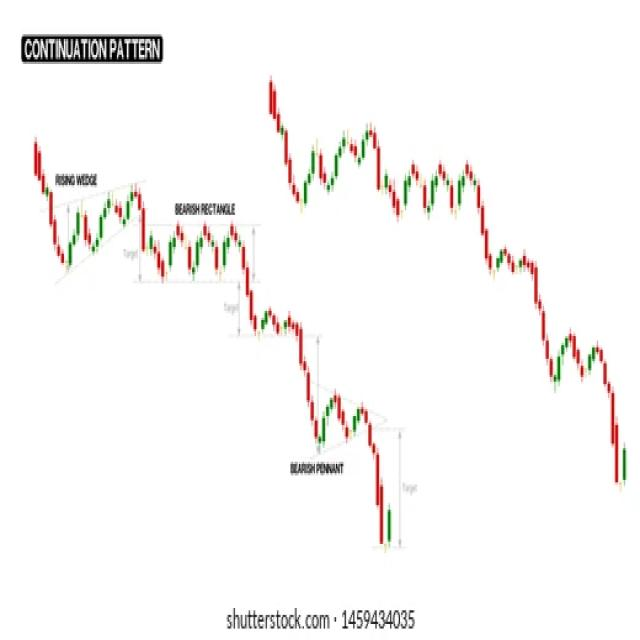rectangle: (138, 222, 256, 283)
